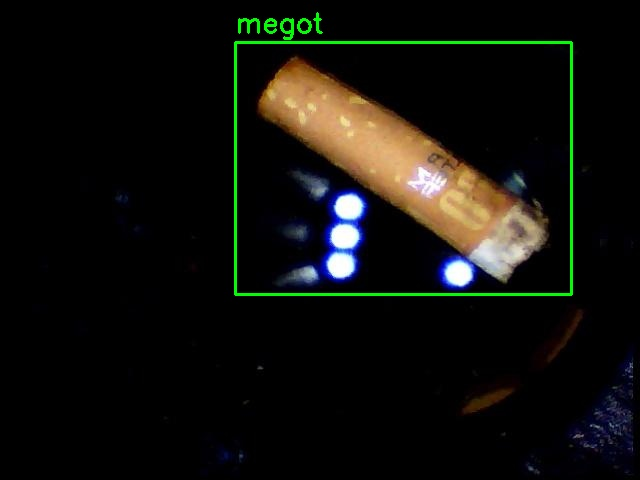megot: (235, 42, 571, 294)
